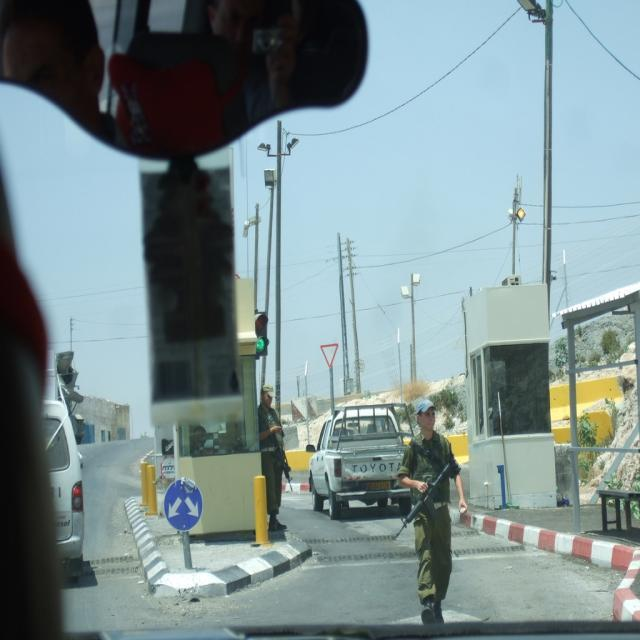road_sign: (162, 478, 204, 532), (320, 343, 339, 369)
traffic light: (253, 310, 269, 358)
